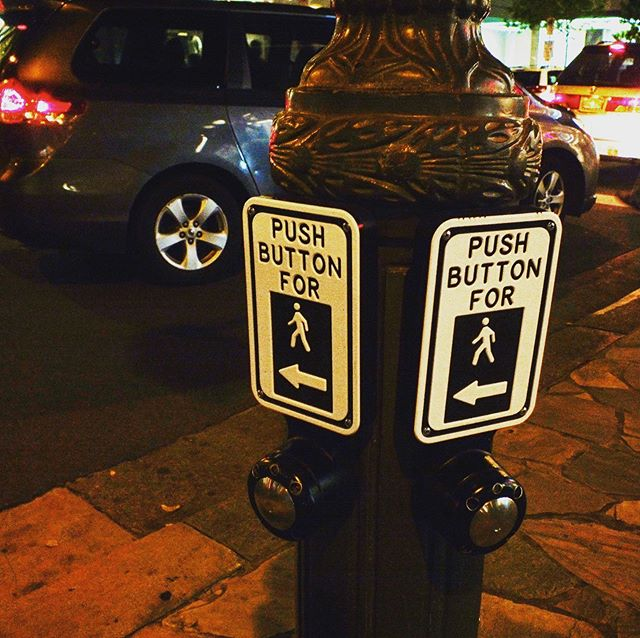car: (1, 1, 596, 237)
sign: (222, 191, 370, 436), (419, 215, 547, 437)
